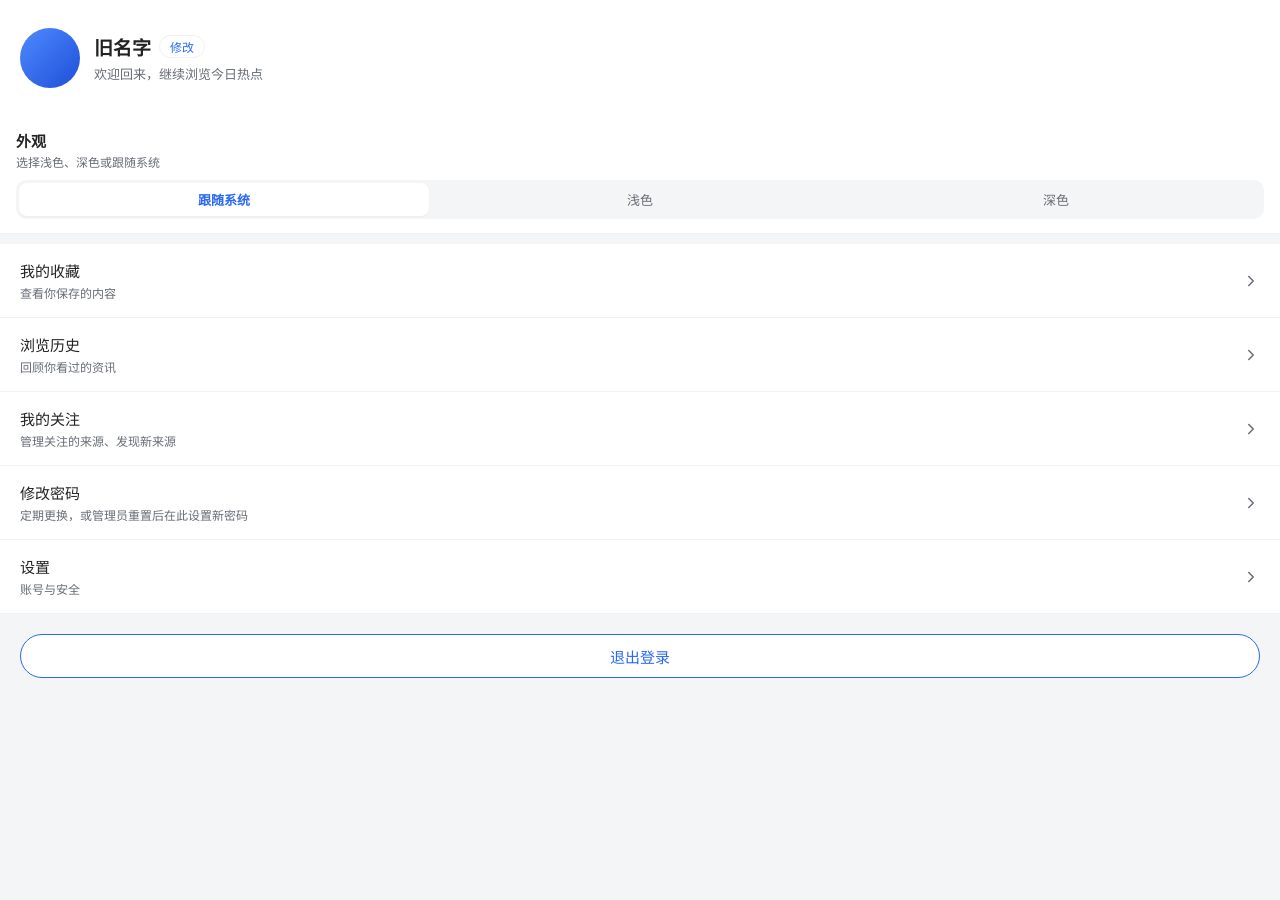
Test: views/Profile 修改昵称 › 保存成功（review）：明确告知用户「将通过人工复核后展示」
Click the button with aria-label "修改昵称" at (182, 46), box [159,35,205,58]
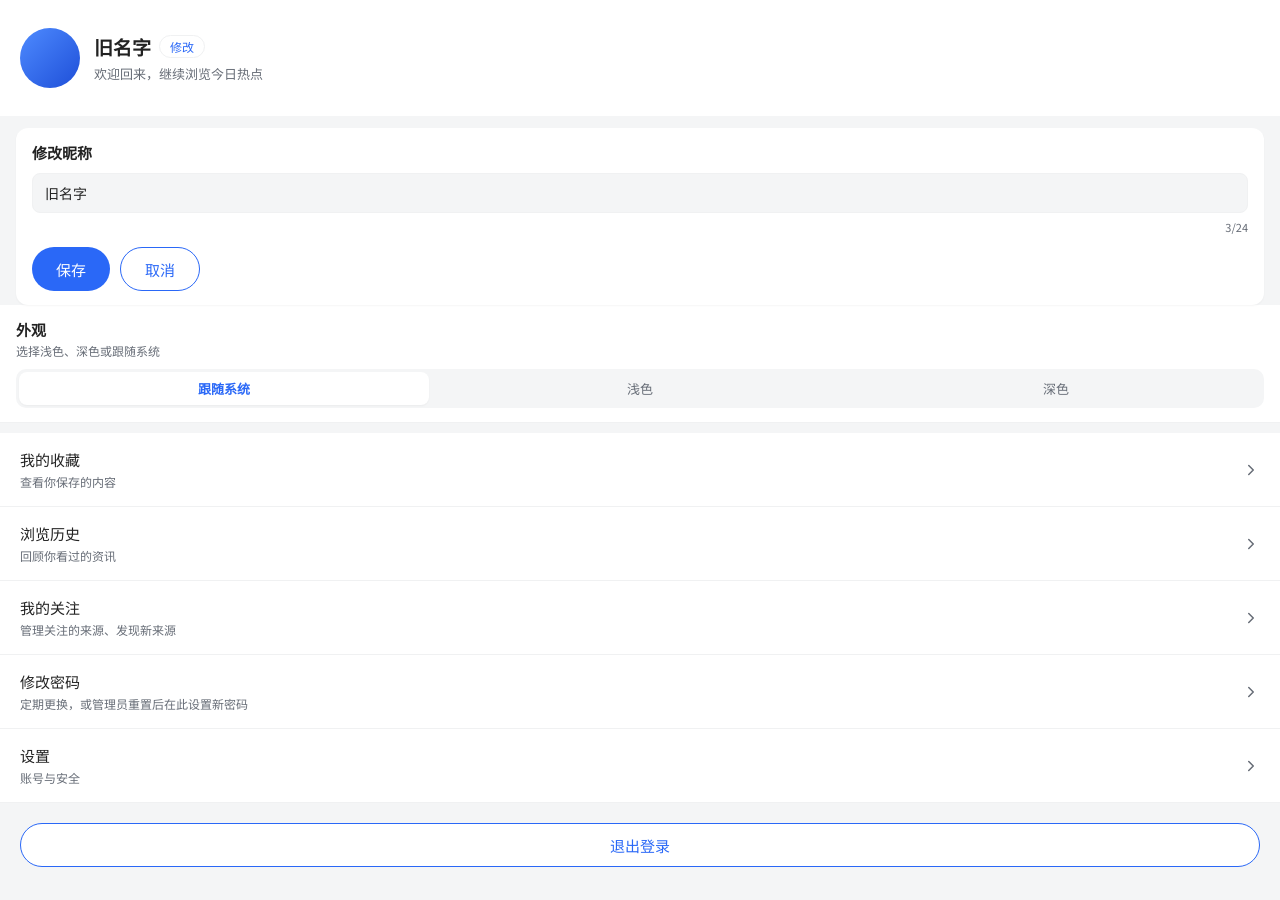
Replace the text in the field named "新昵称" with "广告哥" at (640, 193), box [32,173,1248,213]
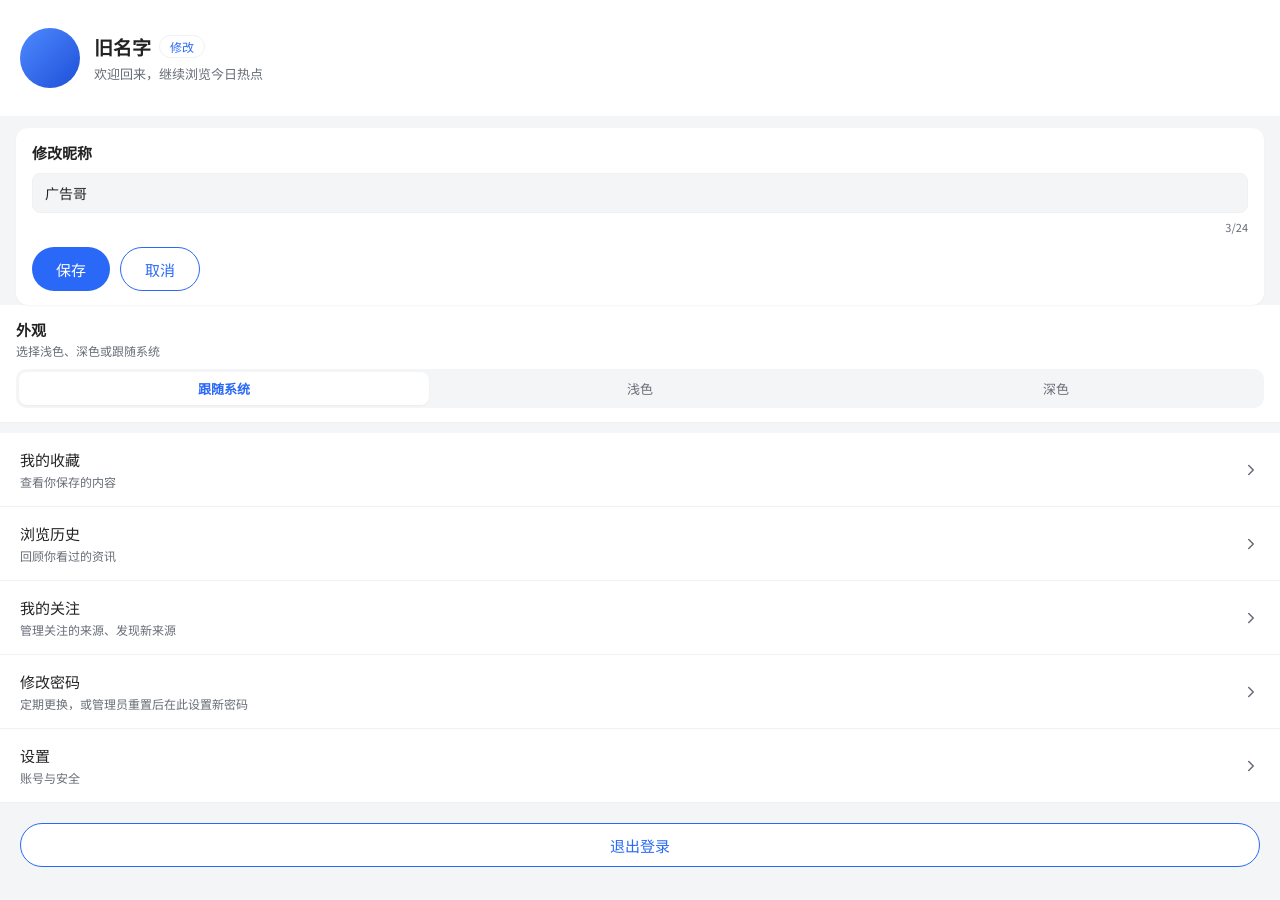
Click the button "保存" at (71, 269), box [32,247,110,291]
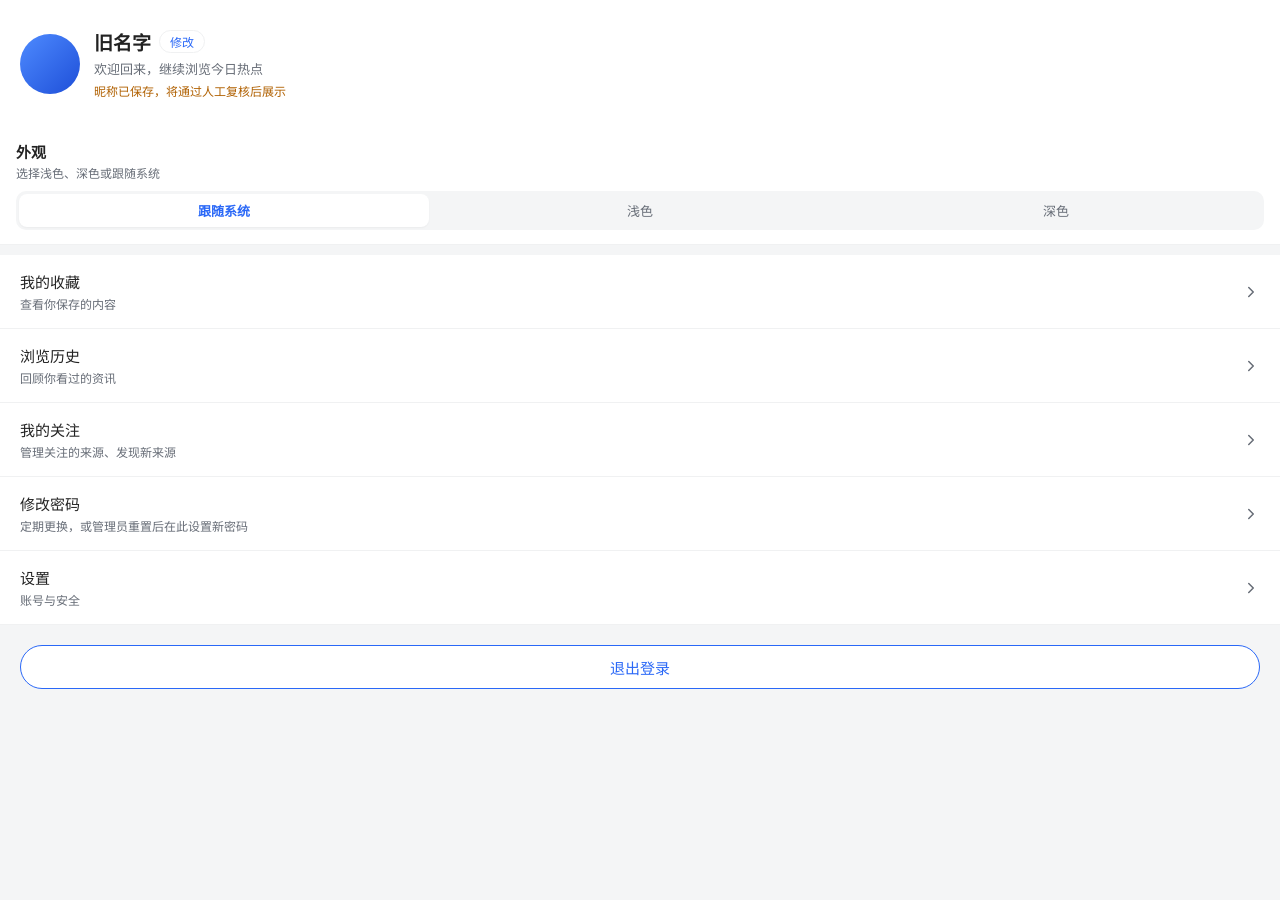
Expected: the text "昵称已保存，将通过人工复核后展示" is shown, [94,82,286,99]
